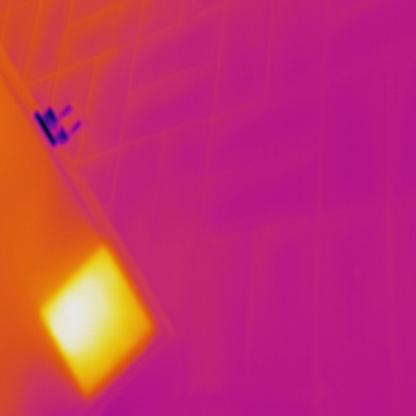hotspot: (34, 242, 164, 406)
